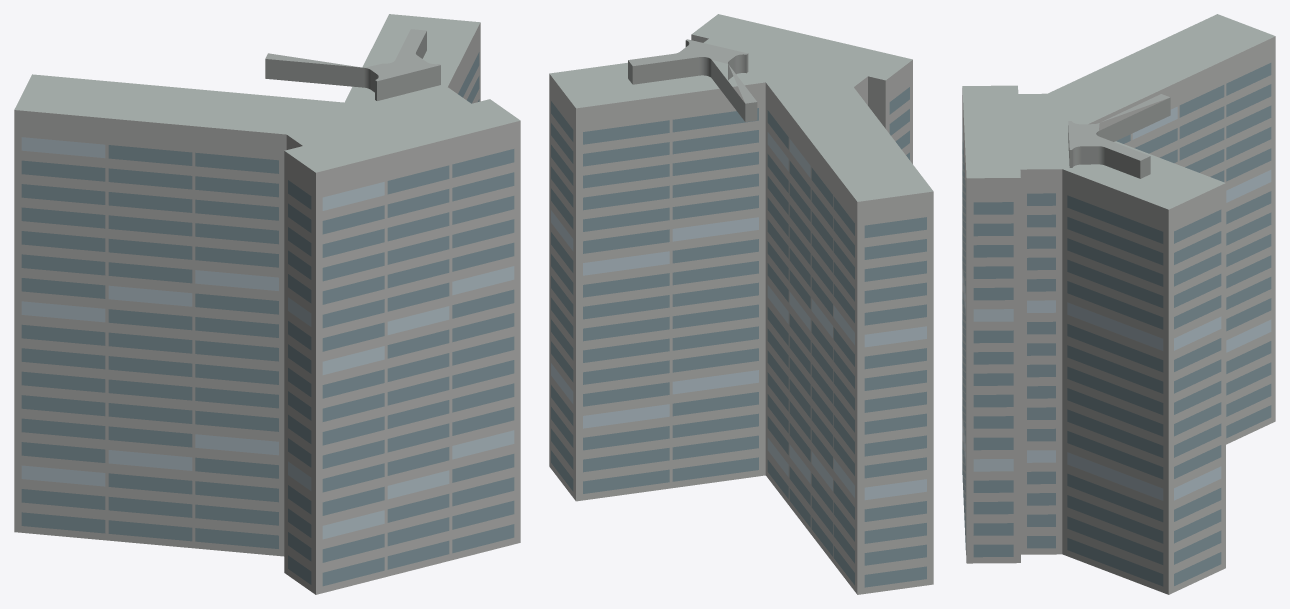
File: fallback-raemian-oksu-riverzen-106.glb
3 renders of one model, left to right at view 1: azimuth 30°, elevation 25°; view 2: azimuth 150°, elevation 25°; view 3: azimuth 270°, elevation 25°, orthographic. The views are drawn at different scales.
Visible parts, largest first — view 1: fallback-raemian-oksu-riverzen-106; view 2: fallback-raemian-oksu-riverzen-106; view 3: fallback-raemian-oksu-riverzen-106.
Part boxes in pixels (<box>): fallback-raemian-oksu-riverzen-106: <box>14,14,520,594</box>; fallback-raemian-oksu-riverzen-106: <box>549,14,933,594</box>; fallback-raemian-oksu-riverzen-106: <box>962,14,1275,594</box>.
Size of the model in its own units: 54.11 by 52 by 36.64.
